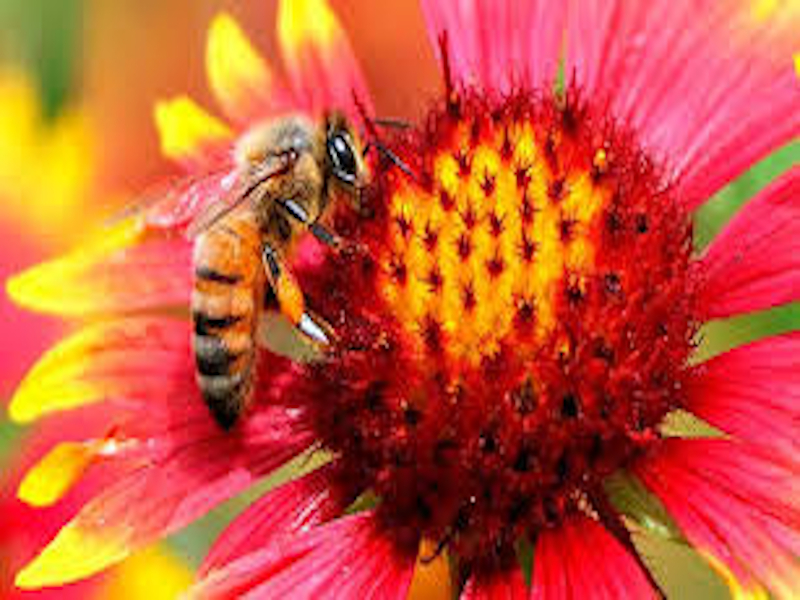abeja: (94, 58, 411, 454)
